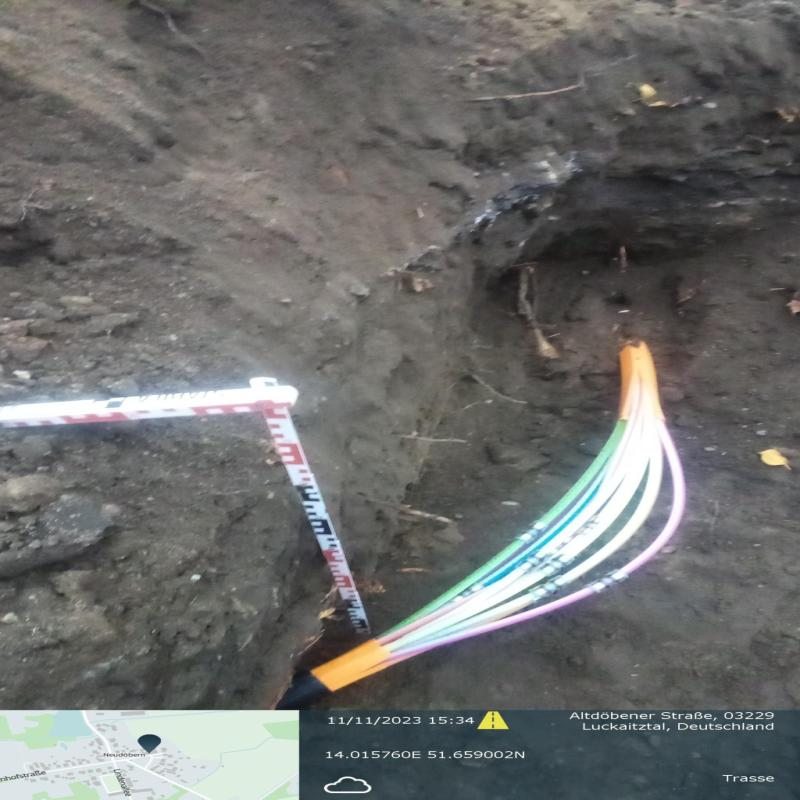Orang-Speednetrohrchen: (284, 346, 684, 703)
